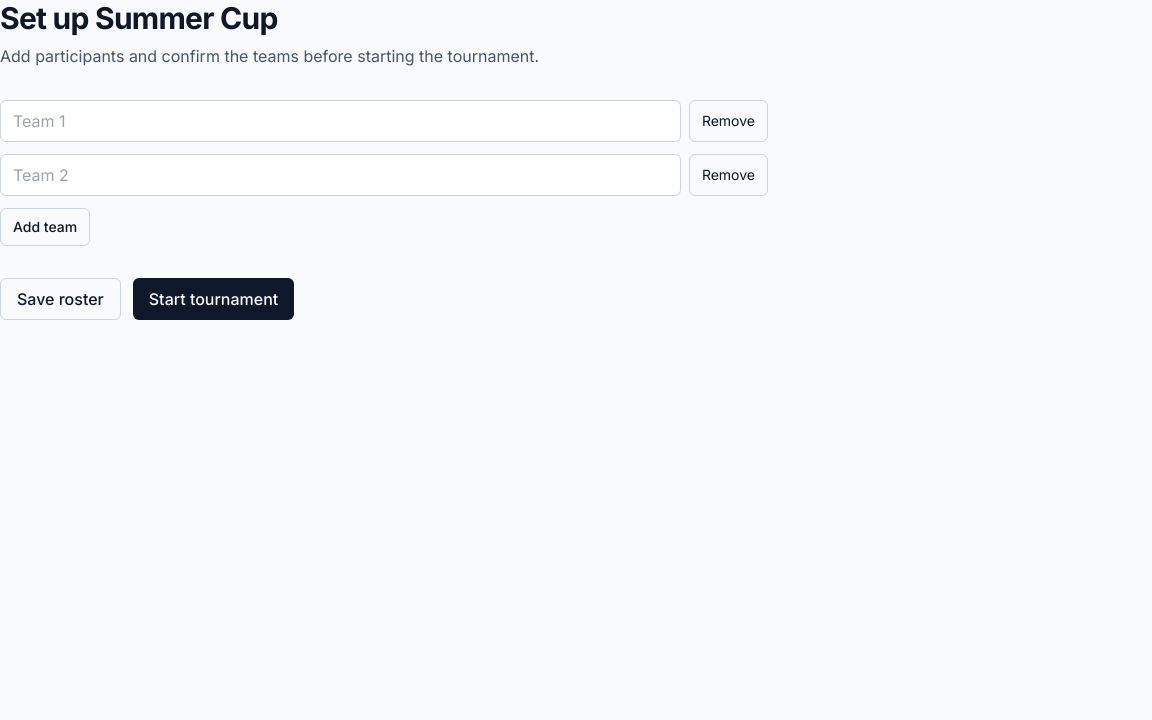
Test: TournamentSetupForm › cancels the placeholder warning and returns to editing without saving
What coordinates should you click on to do the following:
click the button "Save roster"
I would click on:
 (60, 299)
Its box is x1=0 y1=278 x2=121 y2=320.
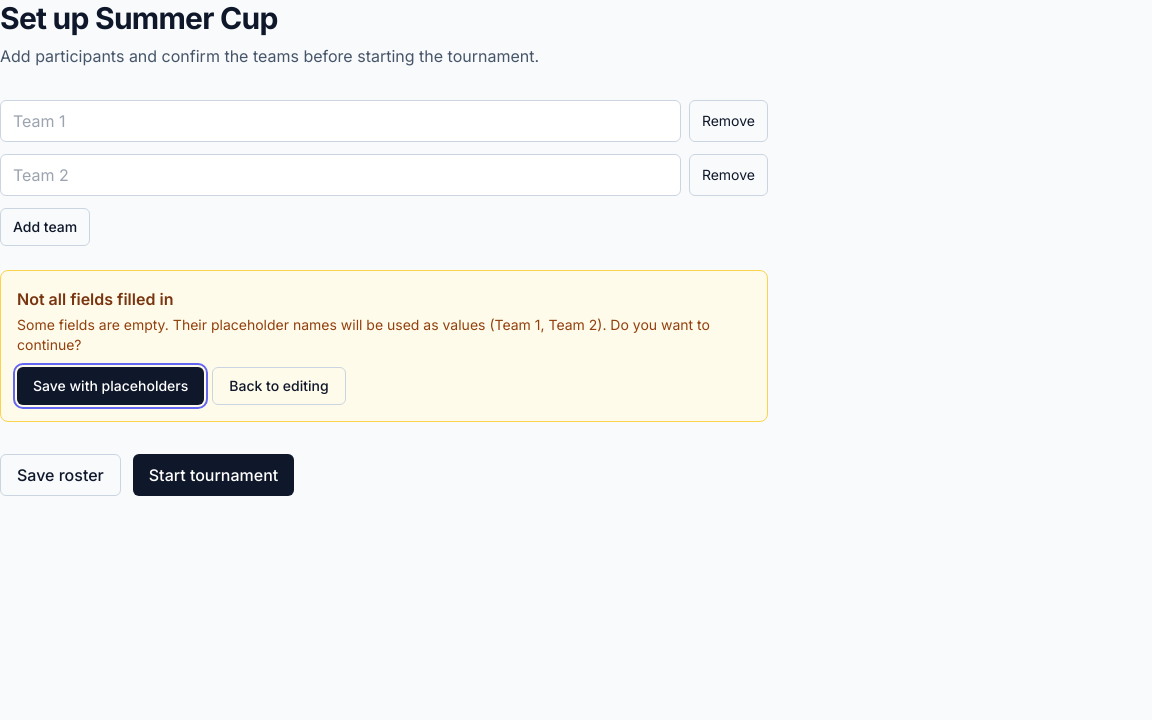
What coordinates should you click on to do the following:
click the button "Back to editing"
I would click on:
 (279, 386)
Its box is x1=212 y1=367 x2=346 y2=405.
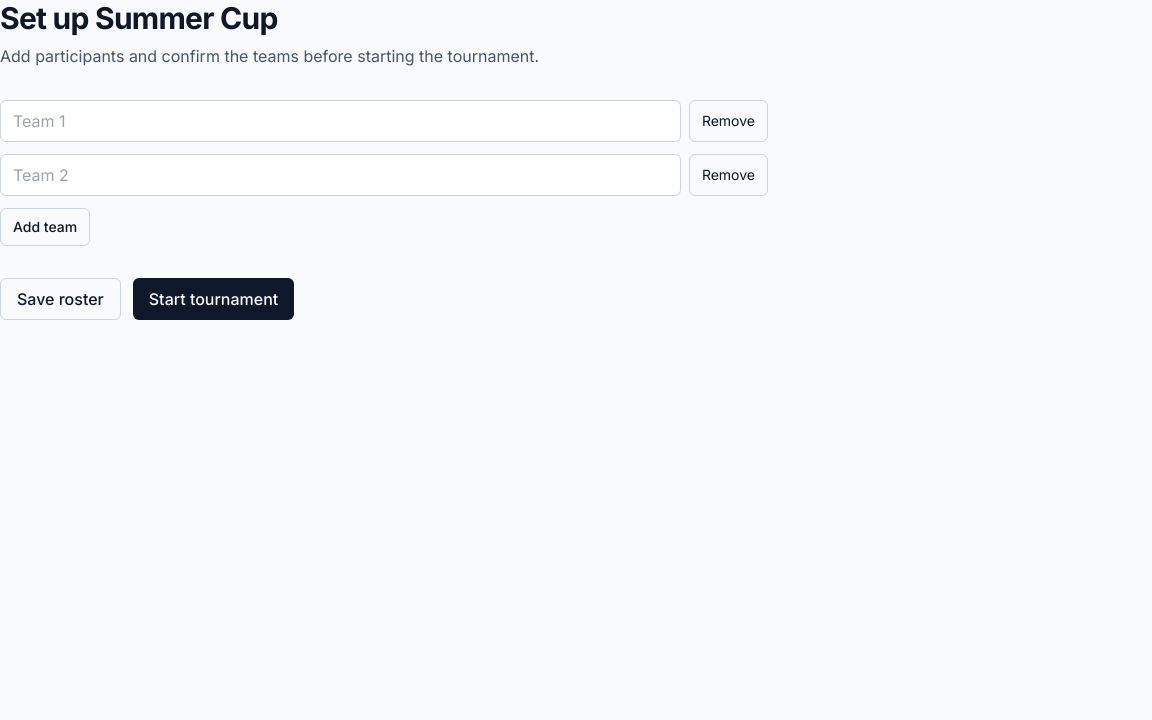
Result: the text "Not all fields filled in" is gone
